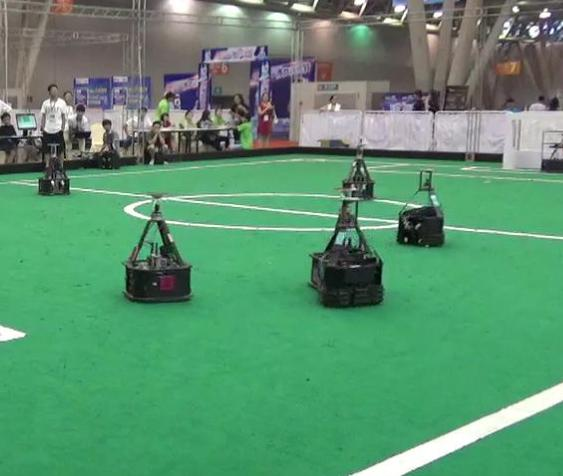robot: (305, 190, 389, 311), (117, 188, 196, 305), (393, 164, 449, 249), (335, 137, 381, 201), (34, 140, 73, 197)
